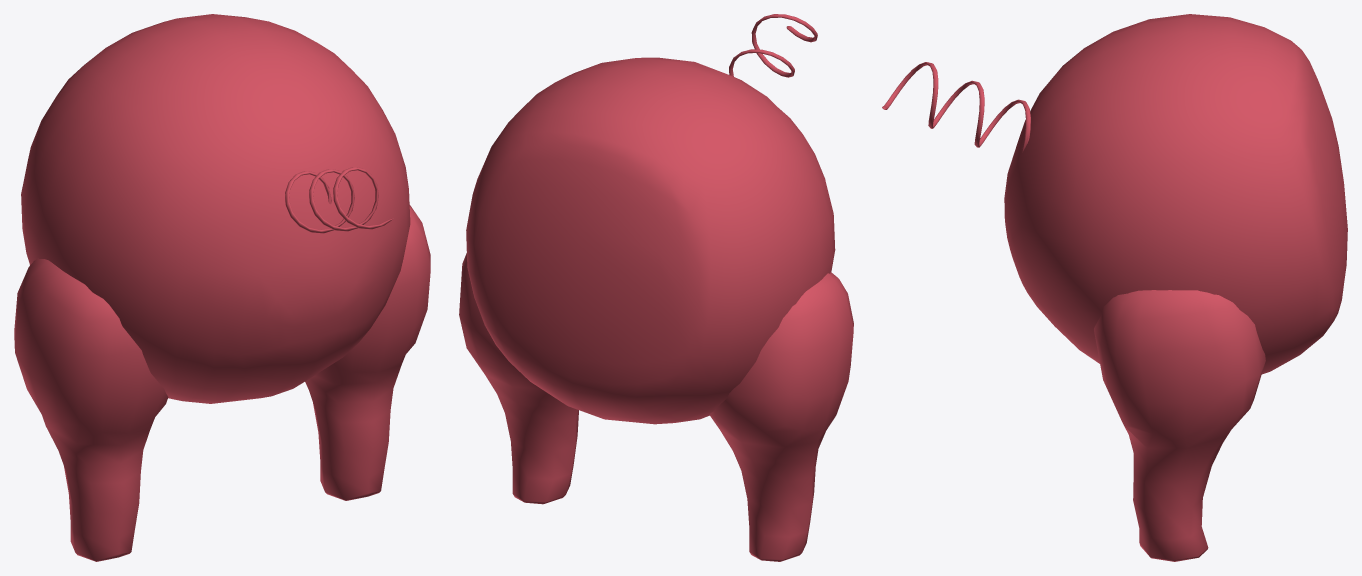
The model's file is B-Oink!_Char_LP_back_v2.fbx.
The picture shows the model from 3 angles, left to right: view 1: azimuth 30°, elevation 25°; view 2: azimuth 150°, elevation 25°; view 3: azimuth 270°, elevation 25°; orthographic projection. The views are drawn at different scales.
Parts seen in each view (by area): view 1: Ass_LP, Leg_l_back_LP, Leg_r_back_LP; view 2: Ass_LP, Leg_l_back_LP, Leg_r_back_LP; view 3: Ass_LP, Leg_r_back_LP.
Part boxes in pixels (bbox=[...]): Ass_LP: bbox=[21, 14, 410, 403]; Leg_l_back_LP: bbox=[14, 258, 168, 561]; Leg_r_back_LP: bbox=[305, 205, 430, 500]; Ass_LP: bbox=[466, 14, 835, 424]; Leg_l_back_LP: bbox=[710, 272, 853, 561]; Leg_r_back_LP: bbox=[459, 253, 578, 504]; Ass_LP: bbox=[882, 14, 1347, 374]; Leg_r_back_LP: bbox=[1094, 290, 1265, 561].
Size of the model in its own units: 278 by 331 by 304.
